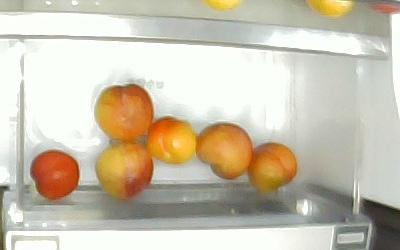prune: (94, 84, 154, 144), (95, 142, 154, 201), (196, 121, 252, 181), (30, 148, 80, 198), (146, 116, 196, 165), (248, 142, 298, 191)
